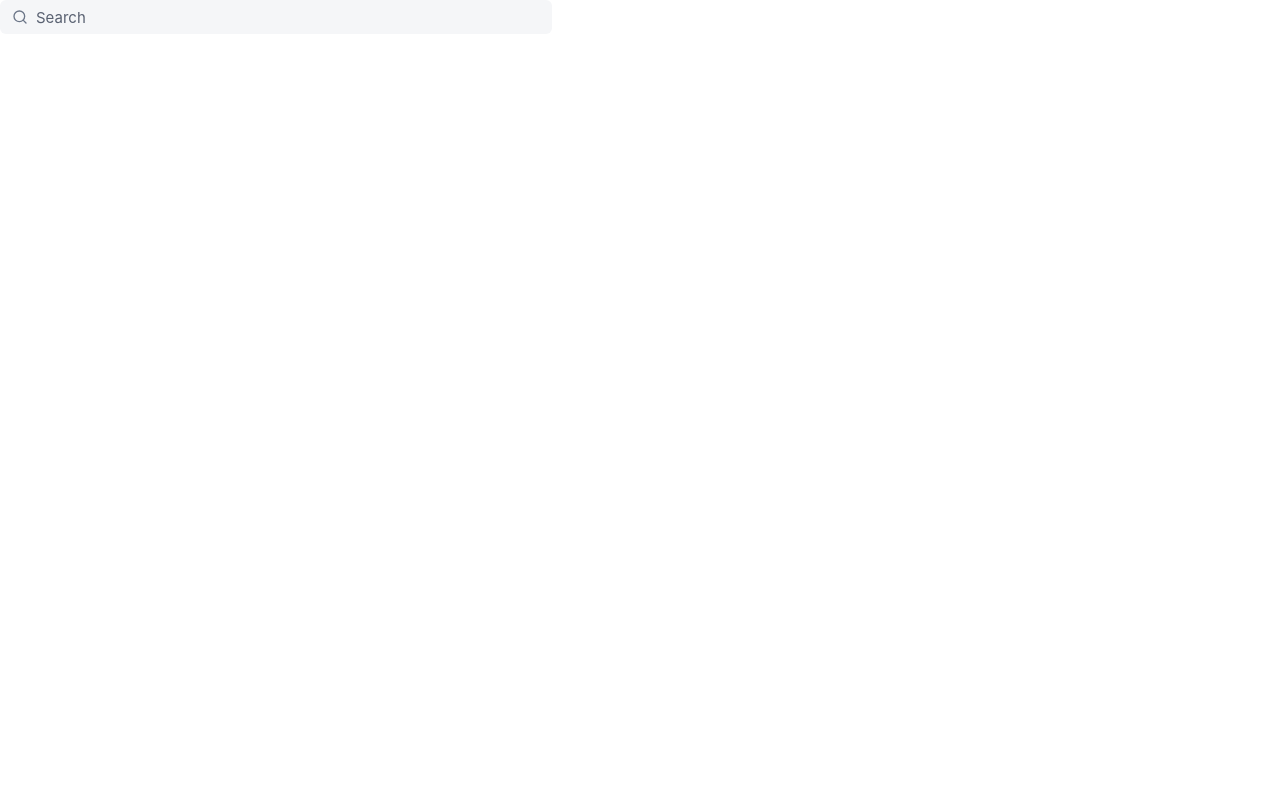
GlobalSearch (payments search in the top bar) › suggests matching payments that open their details
Later steps or results of the test are not shown.
Type "pi_3" into the dropdown at [276, 17], box [0,0,552,34]
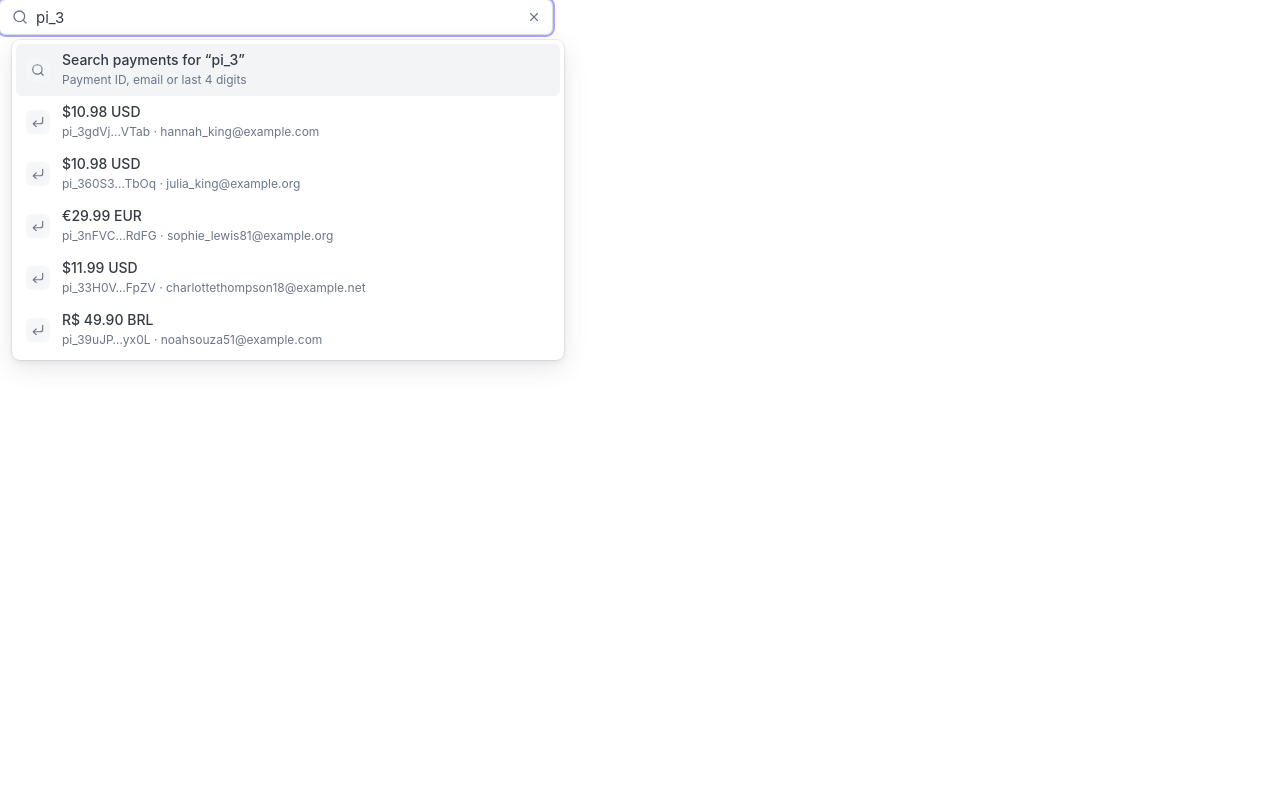
Check: the option that starts with "Search payments for “pi_3”" is shown, box [16,44,560,96]
